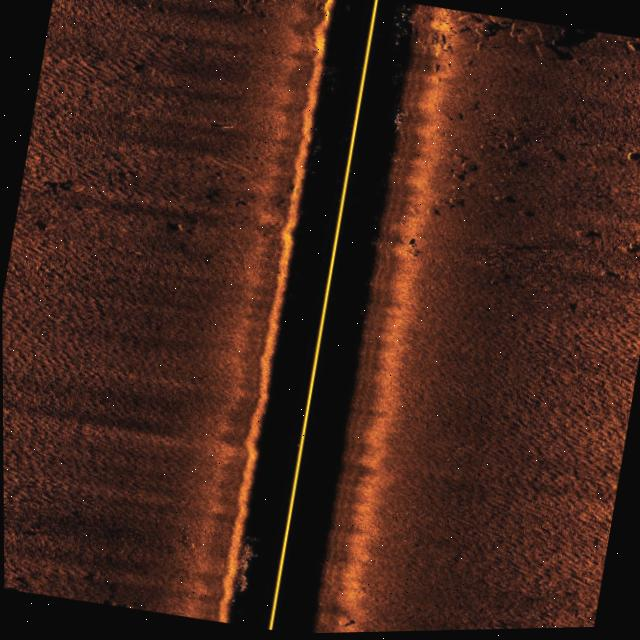mine: (204, 117, 236, 134), (621, 40, 640, 59), (161, 220, 182, 233)
